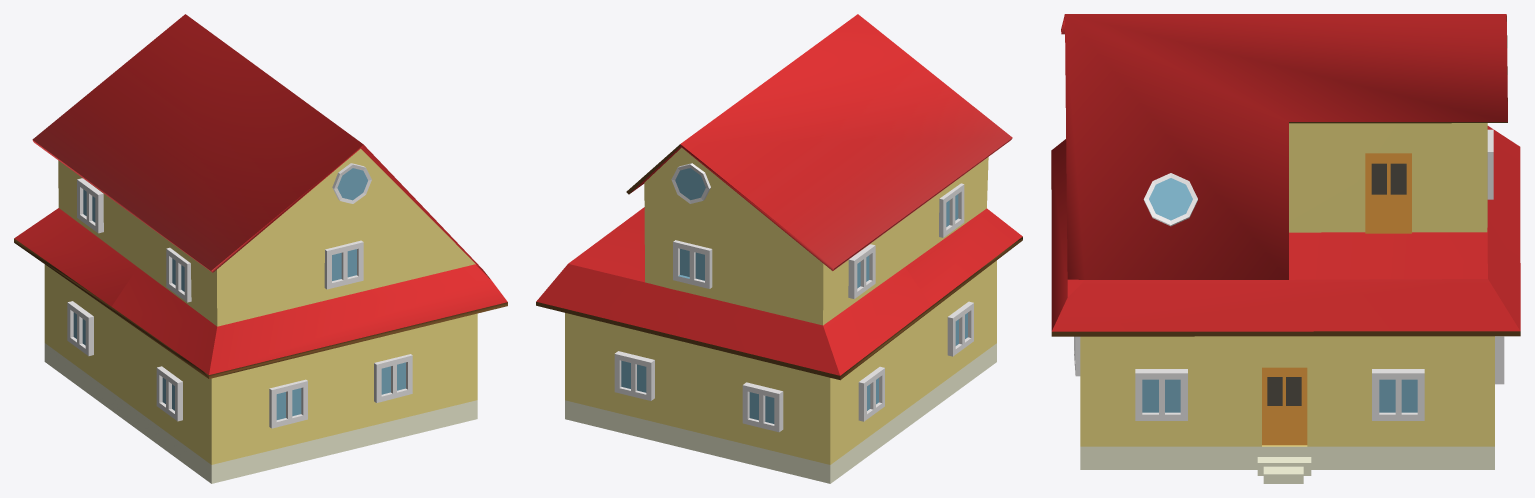
Rendered from Home.obj.
The picture shows the model from 3 angles, left to right: view 1: azimuth 30°, elevation 25°; view 2: azimuth 150°, elevation 25°; view 3: azimuth 270°, elevation 25°; orthographic projection. The views are drawn at different scales.
Visible parts, largest first — view 1: porta; view 2: porta; view 3: porta.
Boxes of the visible parts, <box> form: porta: <box>14,14,507,483</box>; porta: <box>536,14,1022,483</box>; porta: <box>1051,14,1520,483</box>.
Bounding box in the file's own units: 10.6 × 10.13 × 11.23.
1 material, 1 textured.
